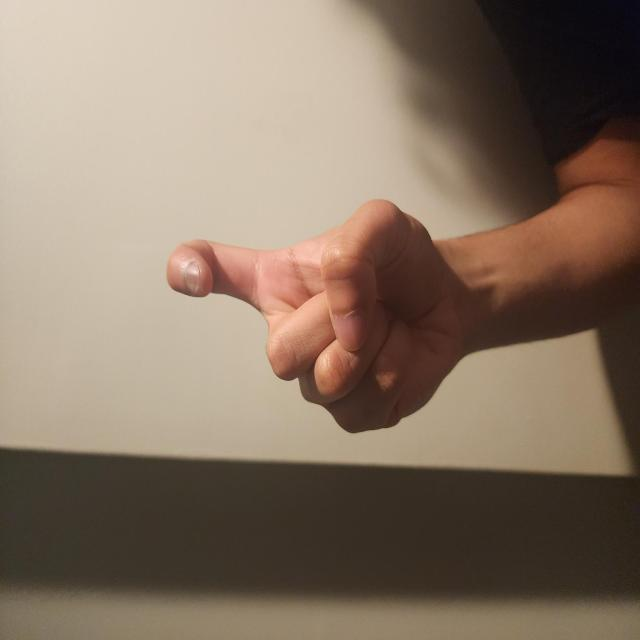X: (149, 215, 333, 628)
